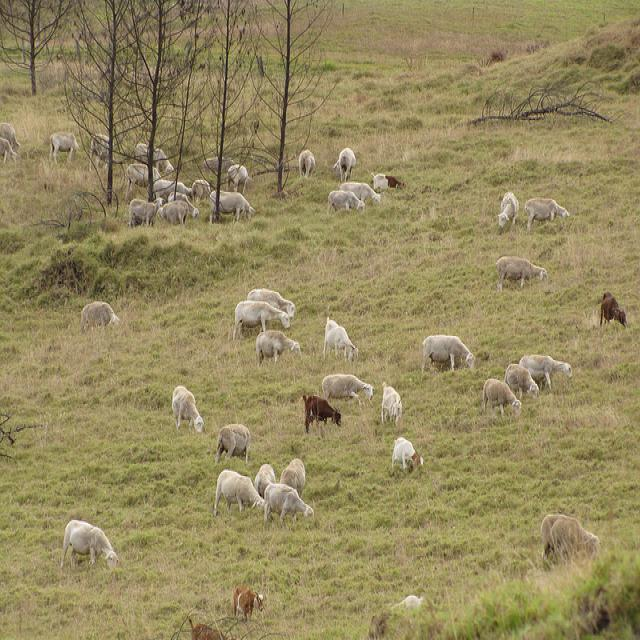cow: (231, 583, 264, 621), (599, 290, 626, 326), (187, 617, 226, 639), (368, 171, 406, 191)
